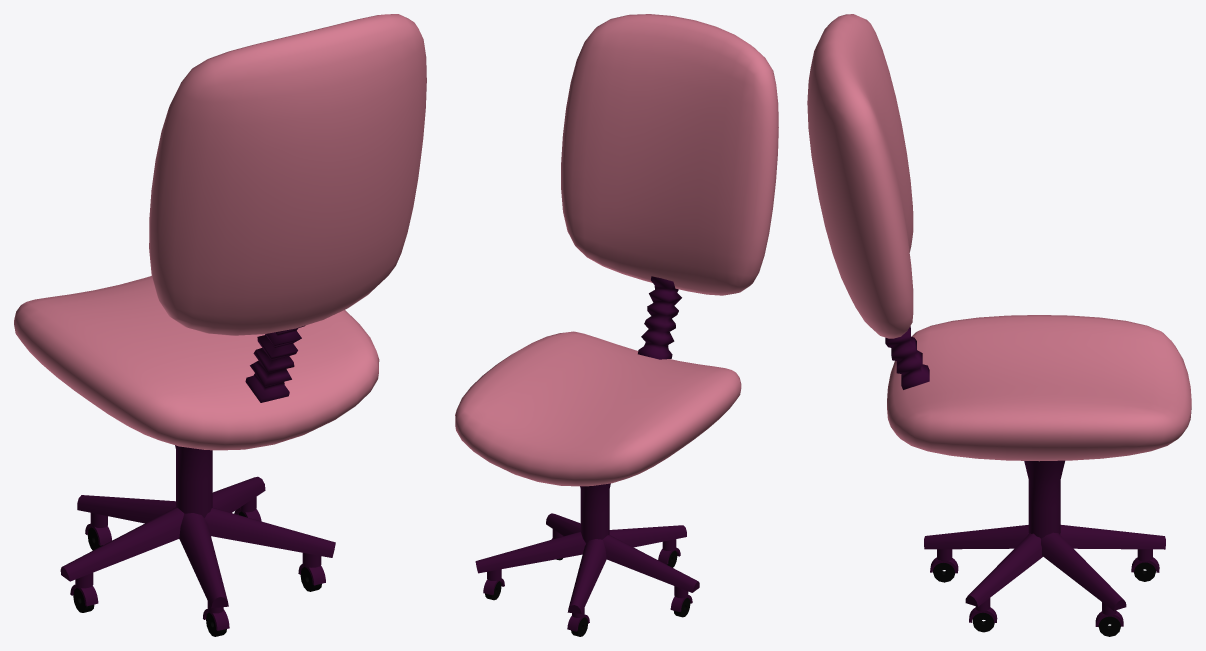
Rendered from chair.FBX.
3 views of the same model, side by side, from view 1: azimuth 30°, elevation 25°; view 2: azimuth 150°, elevation 25°; view 3: azimuth 270°, elevation 25° (orthographic). The views are drawn at different scales.
Parts seen in each view (by area): view 1: cusion, bone, wheel; view 2: cusion, bone, wheel; view 3: cusion, bone, wheel.
Boxes of the visible parts, bbox=[...] form: cusion: bbox=[14, 14, 426, 450]; bone: bbox=[60, 325, 335, 630]; wheel: bbox=[73, 511, 321, 636]; cusion: bbox=[455, 14, 778, 486]; bone: bbox=[475, 276, 699, 631]; wheel: bbox=[485, 550, 690, 636]; cusion: bbox=[807, 14, 1191, 461]; bone: bbox=[885, 326, 1165, 626]; wheel: bbox=[933, 562, 1155, 636].
Bounding box in the file's own units: 189 × 436 × 274.
